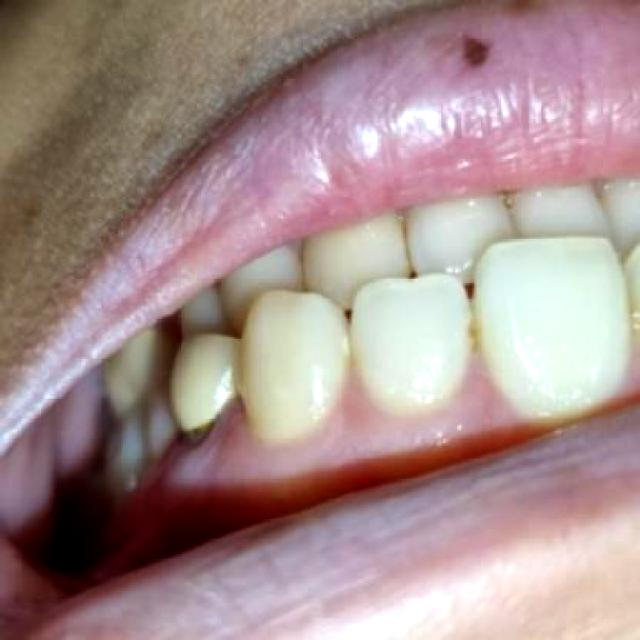Plaque: (165, 416, 220, 458)
